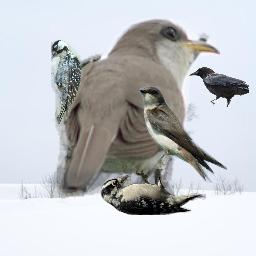Crow: (189, 67, 249, 107)
Cuckoo: (54, 17, 220, 199)
Swallow: (139, 86, 227, 183)
Woodpecker: (101, 169, 206, 215), (51, 40, 83, 124)
